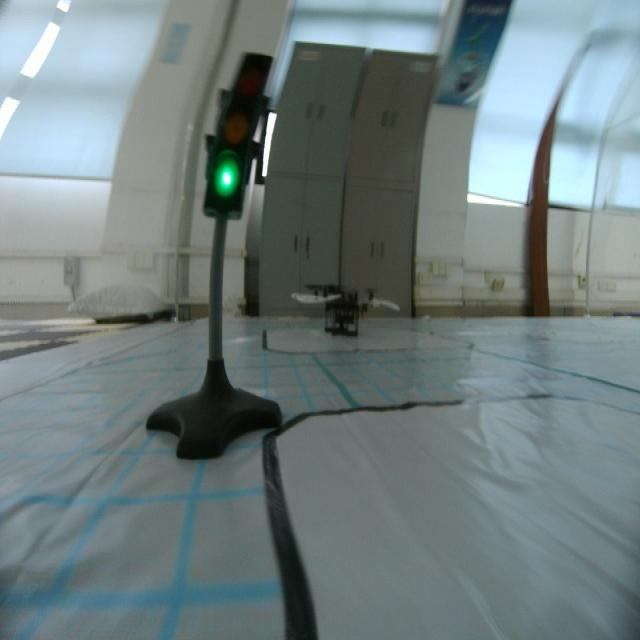green: (208, 46, 269, 220)
